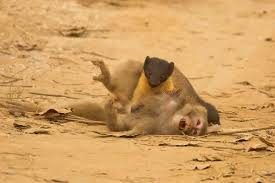monkey: (70, 20, 209, 144)
